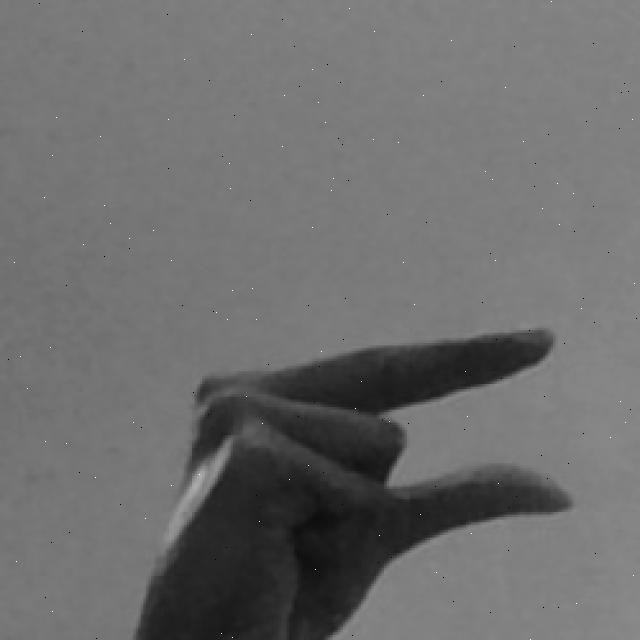G: (133, 321, 572, 640)
